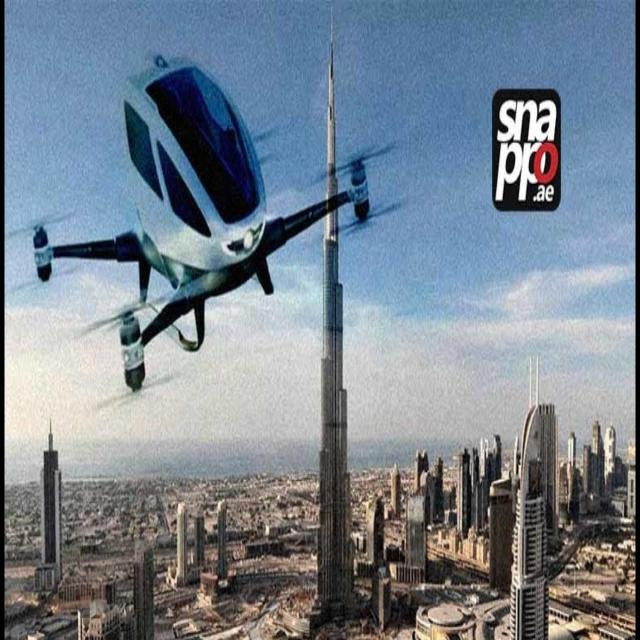drone: (3, 49, 406, 427)
